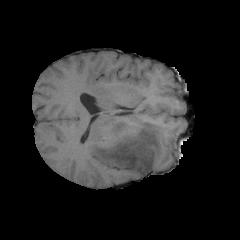glioma: (85, 116, 170, 176)
